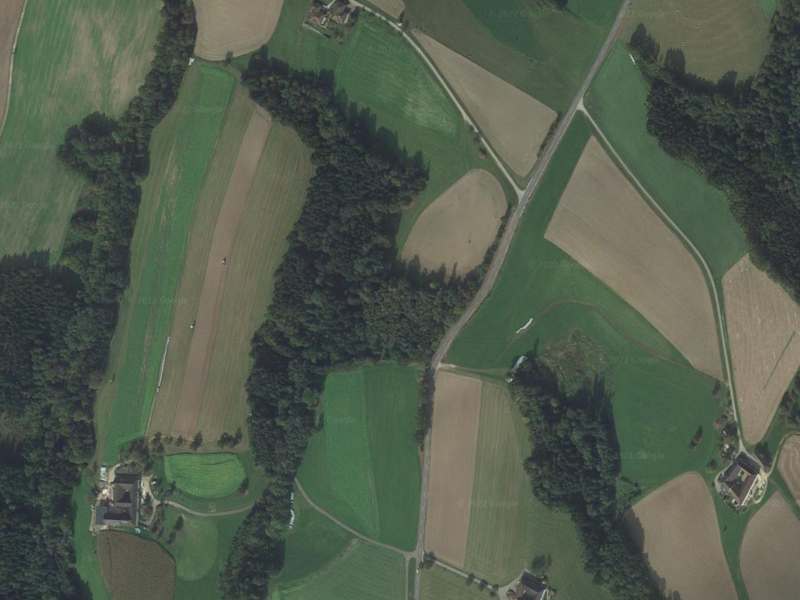field: (411, 28, 558, 178)
